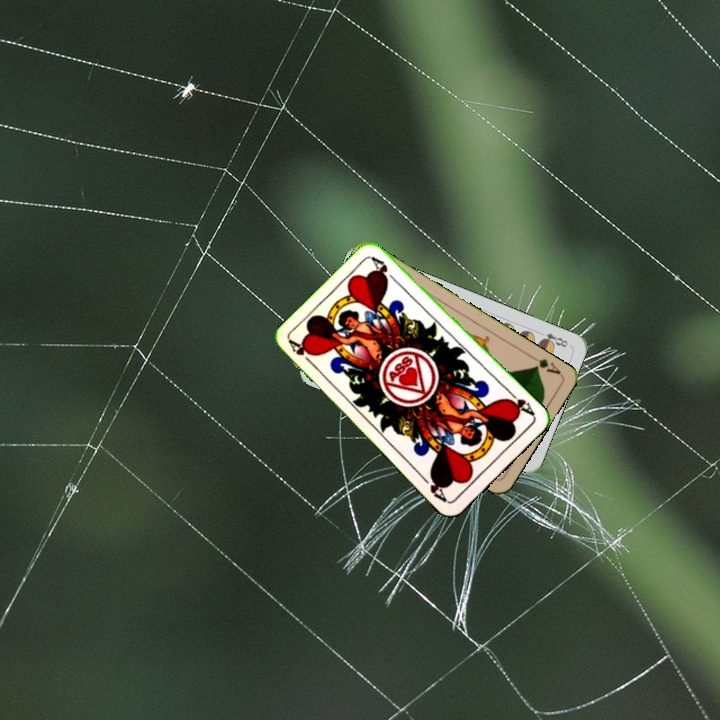E8: (534, 327, 571, 350)
GA: (526, 351, 564, 377)
HA: (502, 386, 537, 418), (285, 336, 318, 369)
